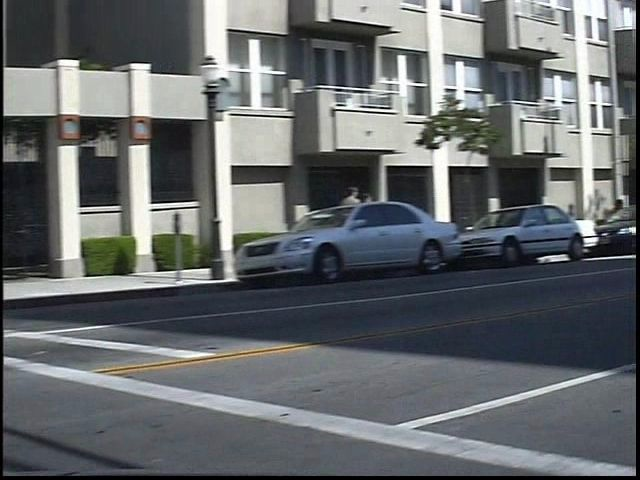person: (354, 181, 378, 255), (372, 188, 392, 250)
